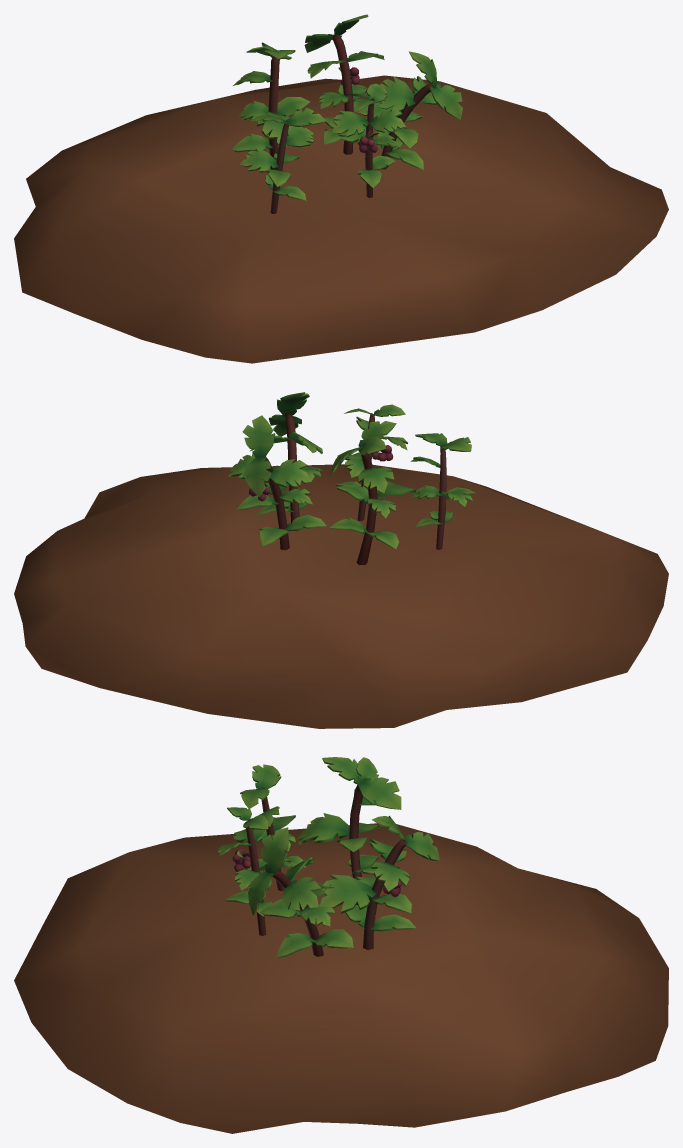
Rendered from SM_PlantSoil_Raspberry_Lv2.fbx.
3 renders of one model, top to bottom at view 1: azimuth 30°, elevation 25°; view 2: azimuth 150°, elevation 25°; view 3: azimuth 270°, elevation 25°, orthographic. The views are drawn at different scales.
Parts seen in each view (by area): view 1: SM_PlantSoil_Raspberry_Lv2; view 2: SM_PlantSoil_Raspberry_Lv2; view 3: SM_PlantSoil_Raspberry_Lv2.
Boxes of the visible parts, <box> form: SM_PlantSoil_Raspberry_Lv2: <box>14,14,668,363</box>; SM_PlantSoil_Raspberry_Lv2: <box>14,392,668,728</box>; SM_PlantSoil_Raspberry_Lv2: <box>14,757,668,1133</box>.
Bounding box in the file's own units: 118 × 35.54 × 106.
